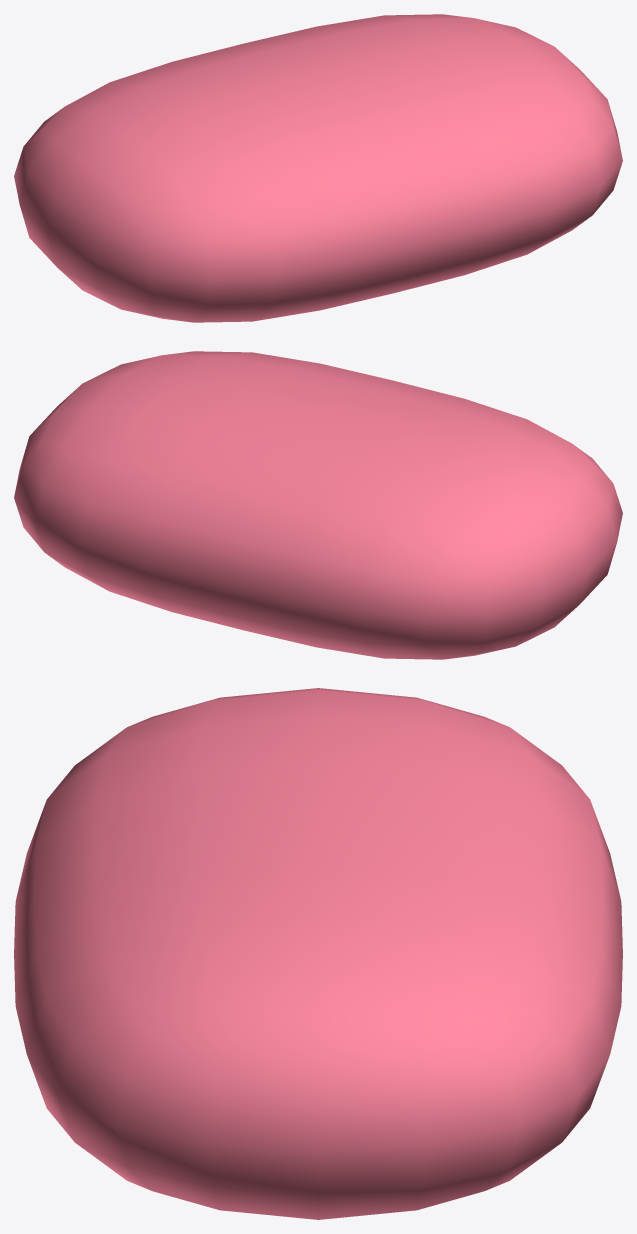
Rendered from soap.glb.
3 renders of one model, top to bottom at view 1: azimuth 30°, elevation 25°; view 2: azimuth 150°, elevation 25°; view 3: azimuth 270°, elevation 25°, orthographic. The views are drawn at different scales.
Visible parts, largest first — view 1: soap; view 2: soap; view 3: soap.
Boxes of the visible parts, x1,y1,x2,y2 form: soap: [14, 14, 622, 322]; soap: [14, 351, 622, 659]; soap: [14, 688, 622, 1219].
Bounding box in the file's own units: 0.1192 × 0.0408 × 0.0786.
